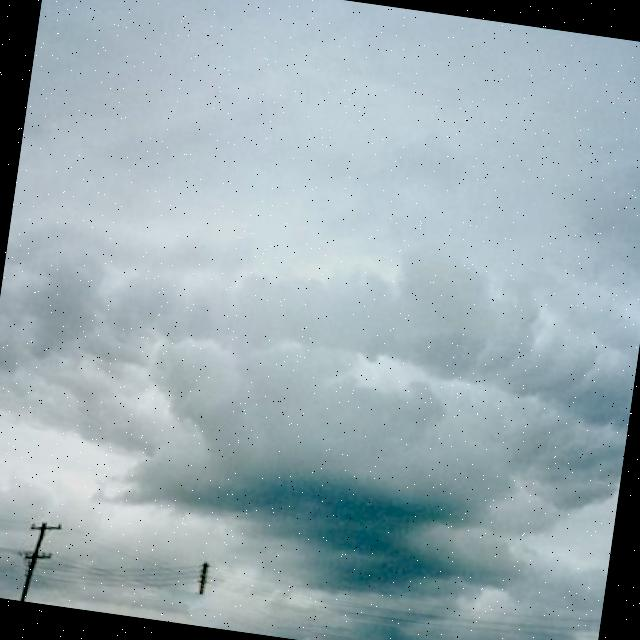Sc: (1, 13, 640, 554)
